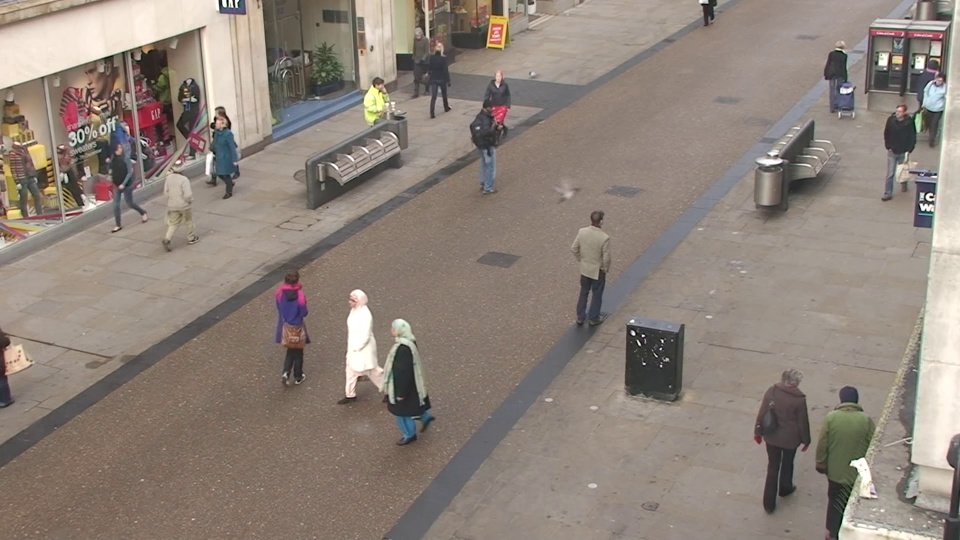pedestrian: (814, 375, 876, 540), (754, 356, 812, 515), (377, 312, 429, 459), (338, 281, 388, 420), (271, 261, 320, 393), (576, 204, 614, 325), (162, 154, 204, 257), (106, 137, 150, 235), (876, 101, 919, 196), (903, 58, 945, 144), (207, 111, 244, 204), (205, 103, 241, 193), (473, 97, 504, 188), (822, 38, 855, 116), (366, 75, 396, 159), (486, 67, 514, 149), (427, 40, 454, 114), (408, 27, 433, 97)
